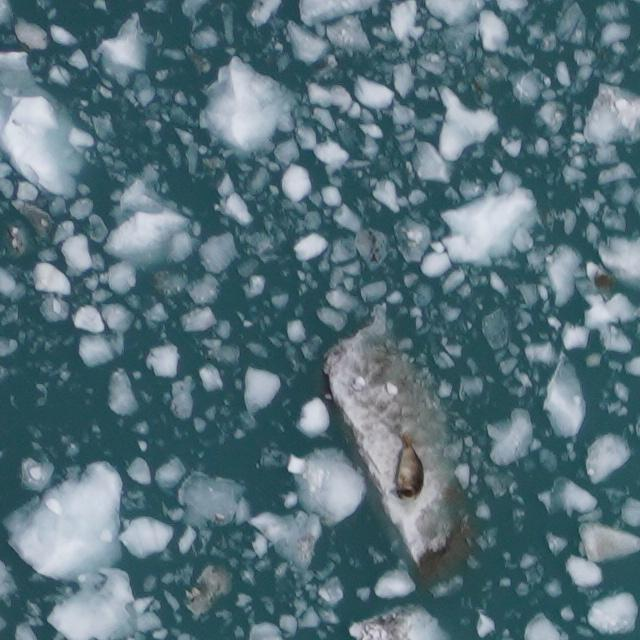seal: (392, 432, 426, 502)
